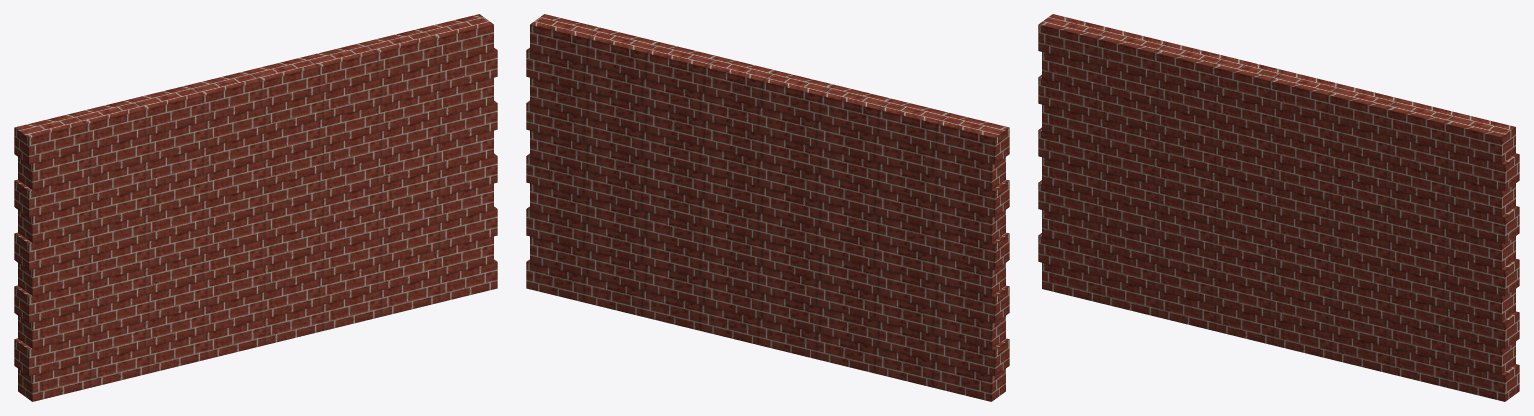
File: RedWall (1).fbx
3 renders of one model, left to right at view 1: azimuth 30°, elevation 25°; view 2: azimuth 150°, elevation 25°; view 3: azimuth 330°, elevation 25°, orthographic.
Visible parts, largest first — view 1: RedWall; view 2: RedWall; view 3: RedWall.
Part boxes in pixels (left/top/right/bottom): RedWall: left=14, top=14, right=497, bottom=401; RedWall: left=526, top=14, right=1009, bottom=401; RedWall: left=1038, top=14, right=1519, bottom=401.
Size of the model in its own units: 742 by 400 by 40.
